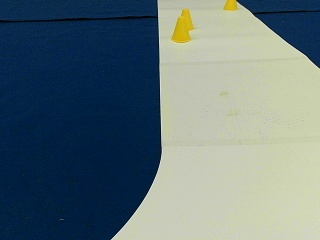cone: (170, 16, 191, 42), (179, 8, 193, 29), (223, 0, 236, 9)
